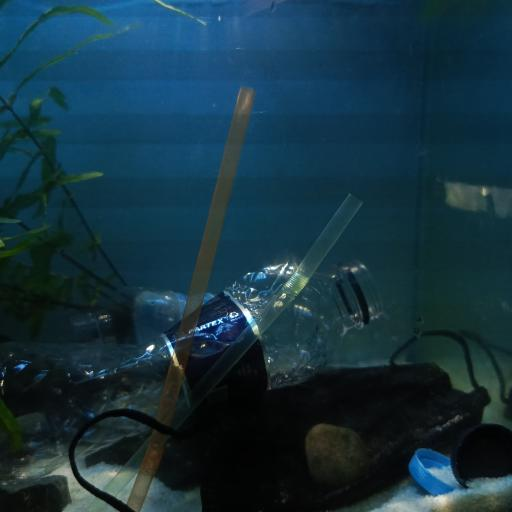bottle_cap: (453, 424, 512, 485), (410, 445, 460, 491)
mask: (70, 326, 511, 512)
plastic_bottle: (0, 260, 382, 486), (73, 286, 231, 344)
plastic_straw: (99, 192, 363, 498), (126, 84, 256, 508)
